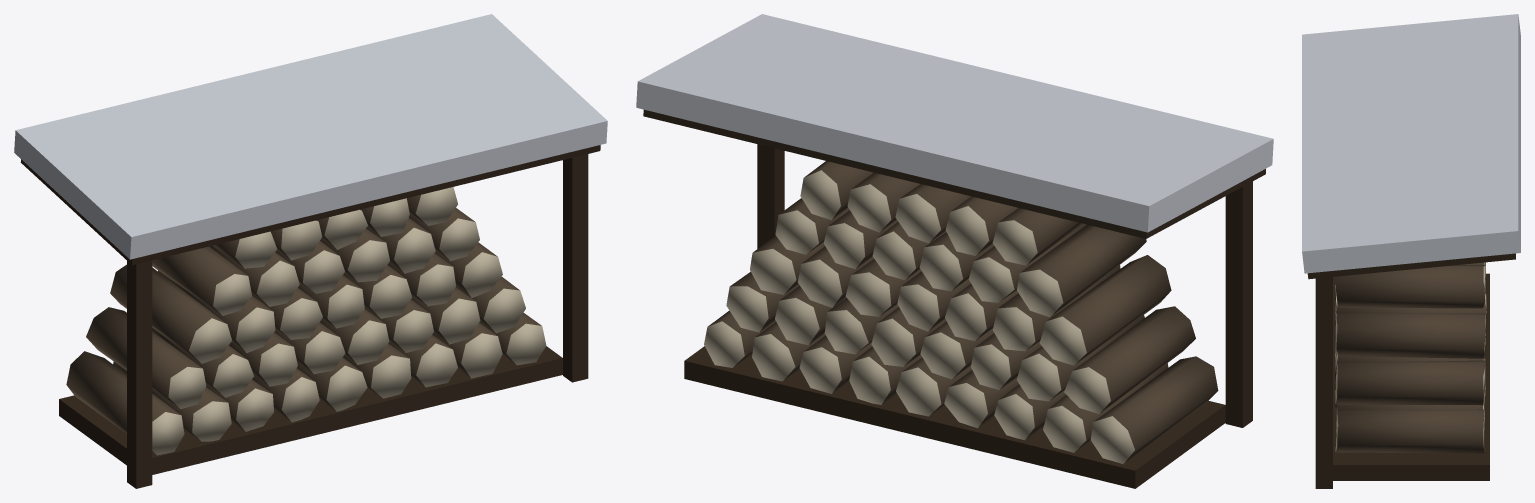
Rendered from woodpile.glb.
3 renders of one model, left to right at view 1: azimuth 30°, elevation 25°; view 2: azimuth 150°, elevation 25°; view 3: azimuth 270°, elevation 25°, orthographic. The views are drawn at different scales.
Parts seen in each view (by area): view 1: woodpile; view 2: woodpile; view 3: woodpile.
Boxes of the visible parts, box(x1,y1,x2,y2) form: woodpile: box(14, 14, 607, 488); woodpile: box(636, 14, 1273, 488); woodpile: box(1302, 14, 1520, 488).
Size of what is drawn, in the model's own units: 2.95 by 1.67 by 1.26.
